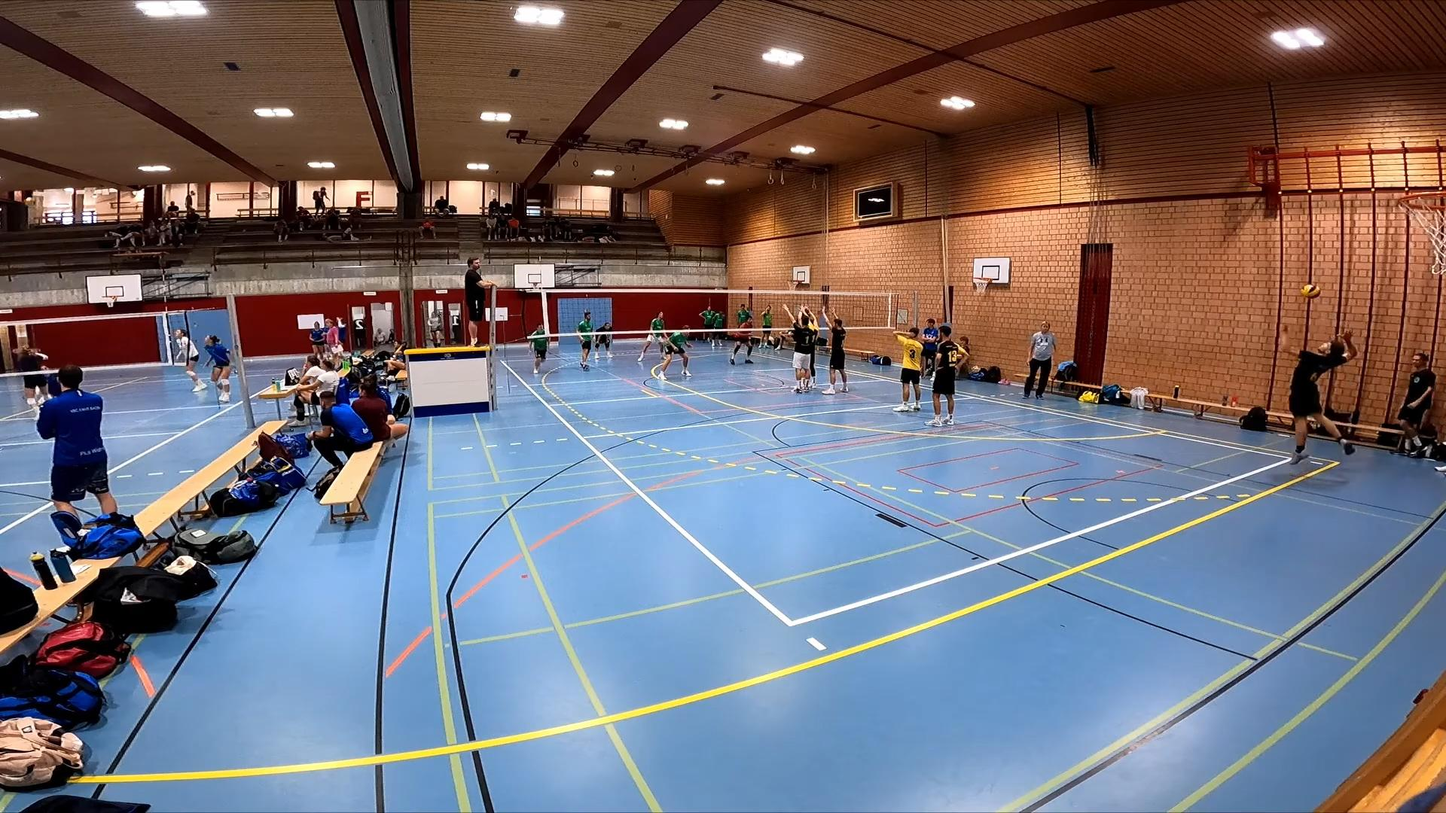Attack: (1283, 328, 1367, 468)
Player: (926, 324, 968, 426), (783, 304, 816, 391), (893, 327, 922, 411), (821, 306, 847, 394), (657, 324, 691, 379), (730, 309, 757, 364), (639, 311, 666, 361), (920, 318, 939, 376), (529, 325, 548, 375), (577, 311, 593, 370), (596, 321, 613, 358)
ball: (1298, 284, 1321, 296)
